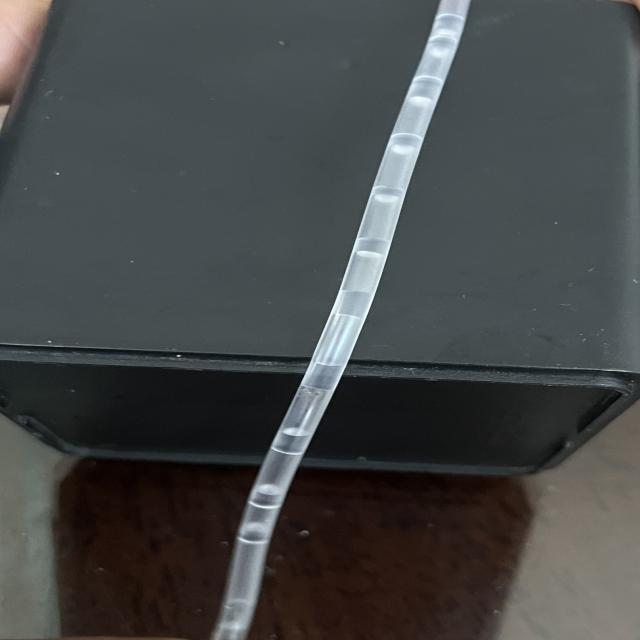bubble: (308, 198, 453, 255), (324, 142, 475, 191), (288, 305, 374, 370), (269, 374, 352, 440), (320, 248, 412, 303), (384, 34, 472, 89), (364, 95, 455, 140), (247, 477, 305, 510)
